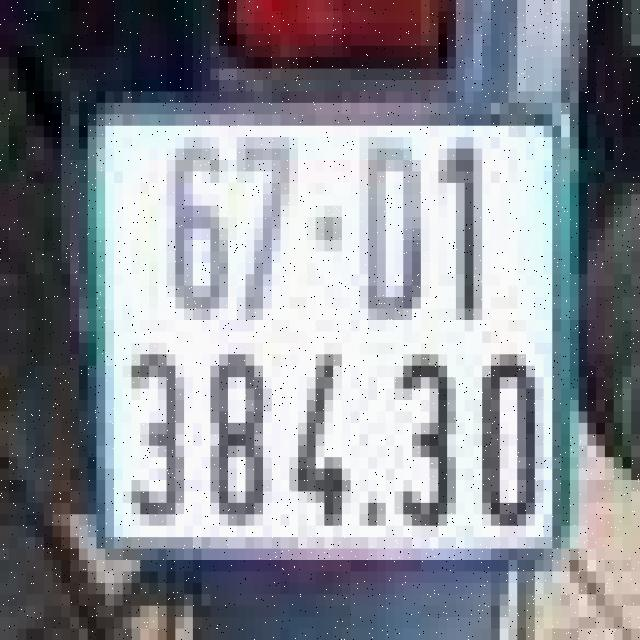0: (473, 343, 552, 537)
1: (438, 132, 491, 337)
3: (390, 326, 460, 554), (101, 349, 188, 520)
4: (276, 343, 355, 526)
6: (154, 131, 232, 326)
7: (228, 132, 298, 337)
8: (189, 331, 276, 526)
D: (351, 126, 438, 331)
